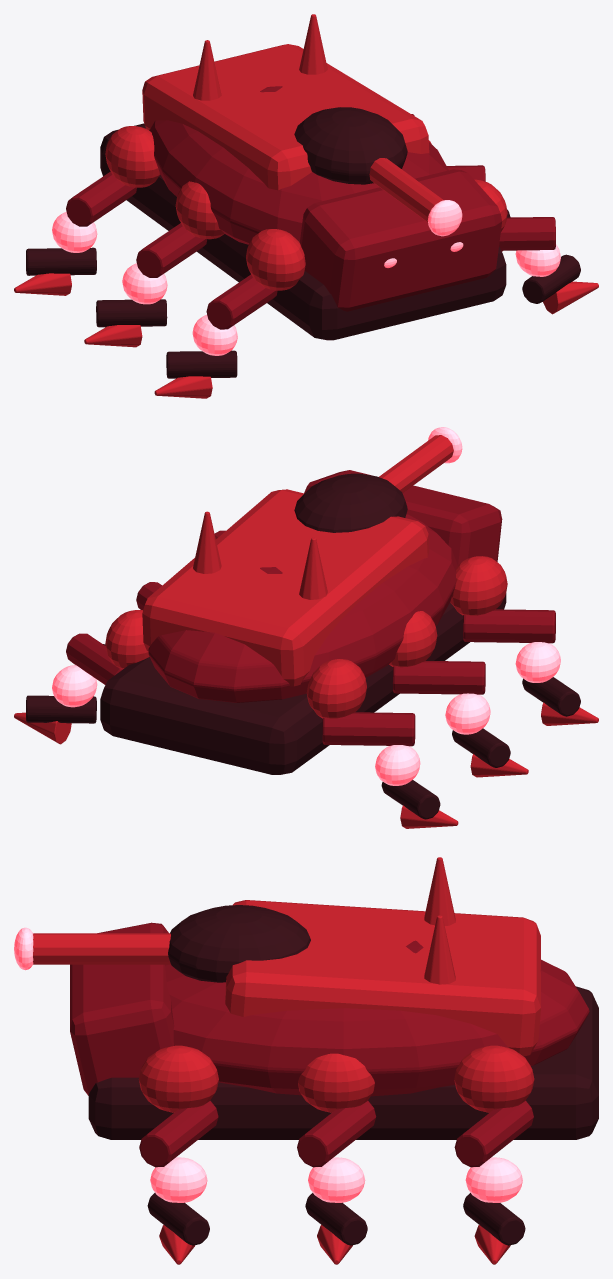
Rendered from xenon_vehicle.glb.
3 renders of one model, top to bottom at view 1: azimuth 30°, elevation 25°; view 2: azimuth 150°, elevation 25°; view 3: azimuth 270°, elevation 25°, orthographic. The views are drawn at different scales.
Parts seen in each view (by area): view 1: front armored snout, armored cargo back, long organic hull, dark belly, weapon carapace, leg shoulder, leg shoulder.002, upper arched leg.002, upper arched leg, upper arched leg.001, long bio cannon, lower leg (+16 smaller); view 2: armored cargo back, dark belly, long organic hull, weapon carapace, front armored snout, upper arched leg.002, upper arched leg, upper arched leg.001, leg shoulder.002, leg shoulder, long bio cannon, leg shoulder.005 (+16 smaller); view 3: armored cargo back, long organic hull, dark belly, front armored snout, weapon carapace, long bio cannon, leg shoulder.003, leg shoulder.005, leg shoulder.004, upper arched leg.005, upper arched leg.003, upper arched leg.004 (+12 smaller).
Part boxes in pixels (left/top/right/bottom): front armored snout: left=299, top=169, right=502, bottom=311; armored cargo back: left=142, top=44, right=429, bottom=190; long organic hull: left=149, top=86, right=448, bottom=244; dark belly: left=100, top=123, right=506, bottom=340; weapon carapace: left=294, top=107, right=407, bottom=184; leg shoulder: left=246, top=229, right=305, bottom=290; leg shoulder.002: left=105, top=126, right=160, bottom=187; upper arched leg.002: left=66, top=171, right=136, bottom=226; upper arched leg: left=206, top=274, right=277, bottom=329; upper arched leg.001: left=136, top=223, right=207, bottom=277; long bio cannon: left=369, top=158, right=443, bottom=221; lower leg: left=166, top=350, right=237, bottom=378; armored cargo back: left=142, top=489, right=429, bottom=686; dark belly: left=100, top=593, right=506, bottom=774; long organic hull: left=148, top=514, right=457, bottom=702; weapon carapace: left=294, top=473, right=407, bottom=532; front armored snout: left=304, top=470, right=502, bottom=565; upper arched leg.002: left=322, top=712, right=415, bottom=746; upper arched leg: left=463, top=609, right=555, bottom=643; upper arched leg.001: left=392, top=661, right=485, bottom=694; leg shoulder.002: left=306, top=659, right=366, bottom=718; leg shoulder: left=450, top=556, right=507, bottom=615; long bio cannon: left=379, top=435, right=453, bottom=493; leg shoulder.005: left=105, top=610, right=149, bottom=668; armored cargo back: left=225, top=900, right=540, bottom=1056; long organic hull: left=165, top=940, right=589, bottom=1096; dark belly: left=88, top=986, right=598, bottom=1139; front armored snout: left=70, top=922, right=174, bottom=1095; weapon carapace: left=168, top=905, right=310, bottom=982; long bio cannon: left=33, top=933, right=170, bottom=964; leg shoulder.003: left=138, top=1045, right=218, bottom=1112; leg shoulder.005: left=454, top=1045, right=534, bottom=1112; leg shoulder.004: left=298, top=1053, right=374, bottom=1112; upper arched leg.005: left=454, top=1100, right=533, bottom=1167; upper arched leg.003: left=139, top=1100, right=218, bottom=1167; upper arched leg.004: left=297, top=1101, right=376, bottom=1167.
Size of the model in its own units: 4 by 2.09 by 4.08.
